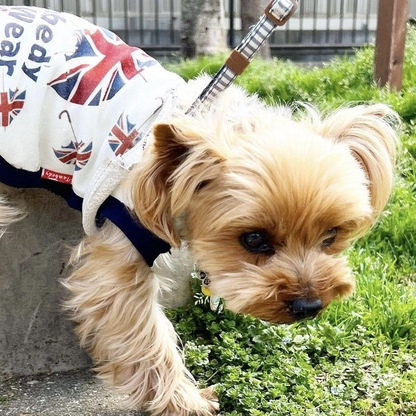yorkshire: (59, 96, 401, 410)
